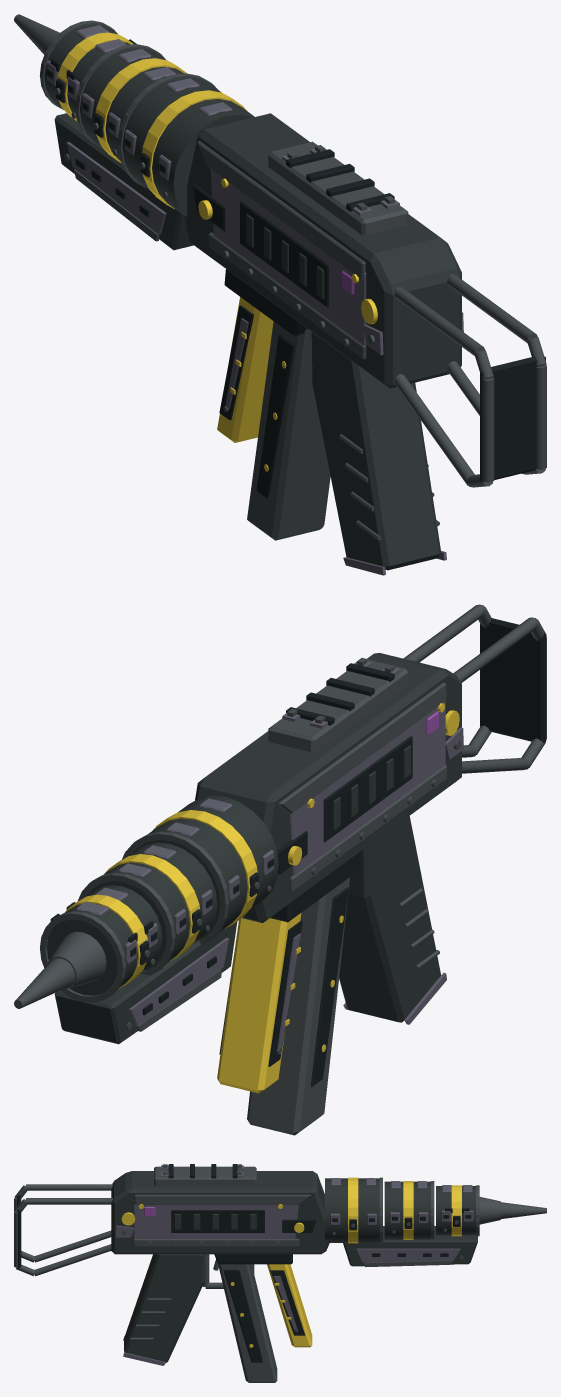
The model's file is smg_3.glb.
The picture shows the model from 3 angles, top to bottom: view 1: azimuth 30°, elevation 25°; view 2: azimuth 150°, elevation 25°; view 3: azimuth 270°, elevation 25°; orthographic projection. The views are drawn at different scales.
Visible parts, largest first — view 1: Weapon_smg_v1; view 2: Weapon_smg_v1; view 3: Weapon_smg_v1.
Part boxes in pixels (x1,y1,x2,y2): Weapon_smg_v1: [14, 14, 546, 575]; Weapon_smg_v1: [14, 604, 546, 1135]; Weapon_smg_v1: [14, 1164, 546, 1382].
Size of the model in its own units: 0.084 by 0.2695 by 0.624.
